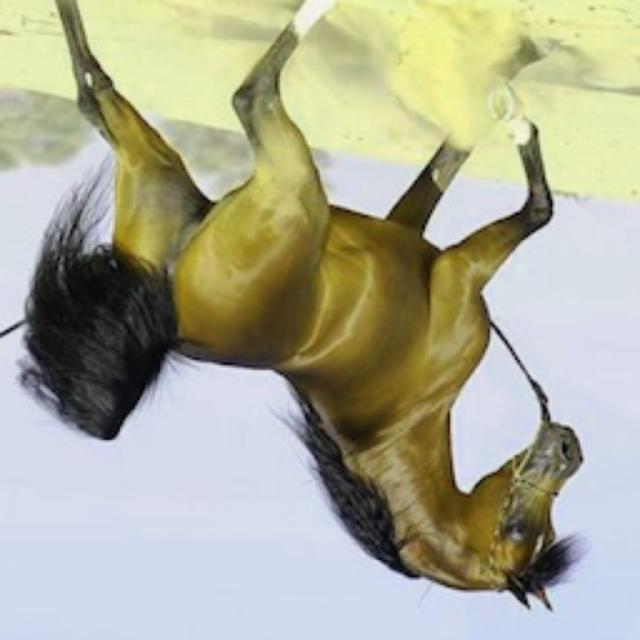Horse: (0, 3, 592, 616)
